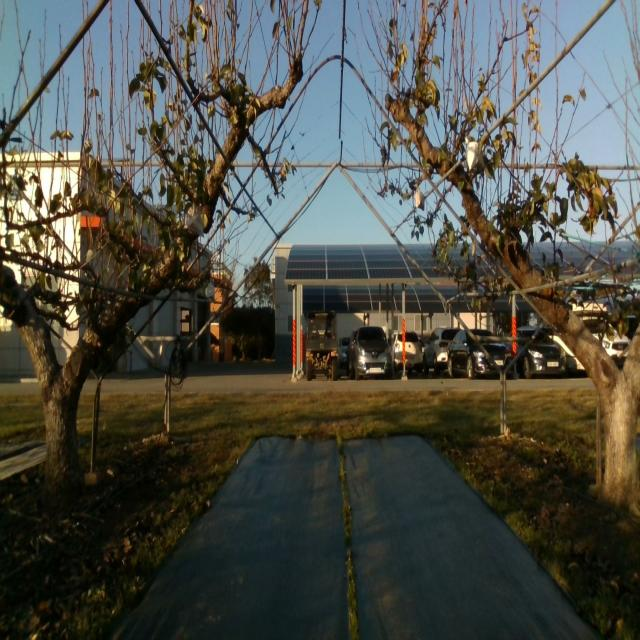pearbags: (184, 202, 204, 237), (465, 135, 480, 170), (415, 188, 425, 212)
